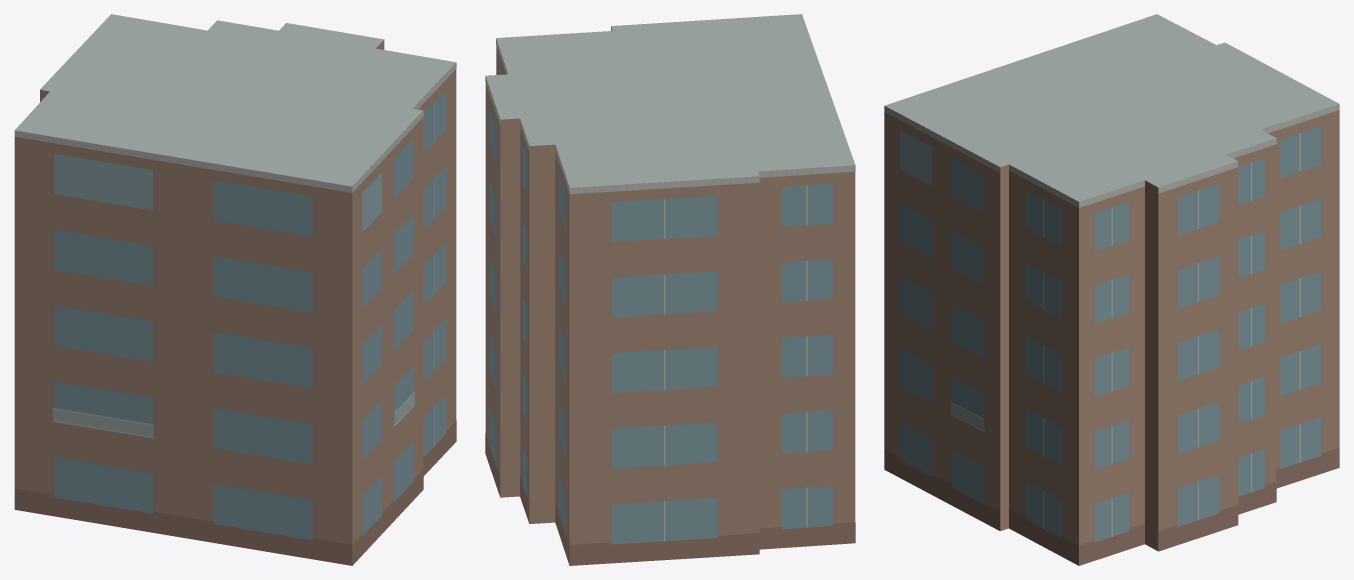
The model's file is survey-upis-32618815.glb.
The picture shows the model from 3 angles, left to right: view 1: azimuth 30°, elevation 25°; view 2: azimuth 150°, elevation 25°; view 3: azimuth 270°, elevation 25°; orthographic projection. The views are drawn at different scales.
Parts seen in each view (by area): view 1: survey-upis-32618815.tmp; view 2: survey-upis-32618815.tmp; view 3: survey-upis-32618815.tmp.
Boxes of the visible parts, x1,y1,x2,y2 form: survey-upis-32618815.tmp: (14, 14, 456, 565); survey-upis-32618815.tmp: (485, 14, 855, 565); survey-upis-32618815.tmp: (884, 14, 1339, 565).
Size of the model in its own units: 16.06 by 14.5 by 16.44.
